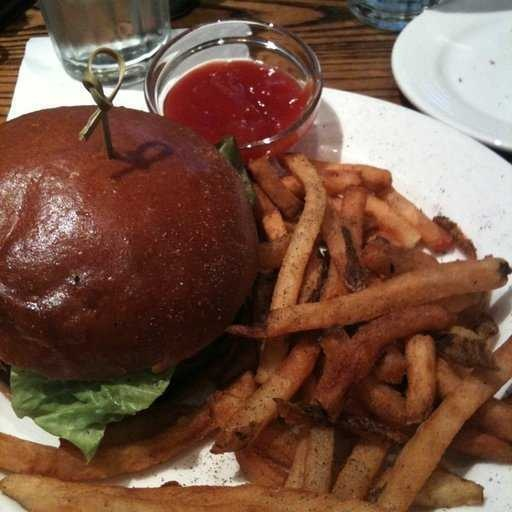hamburger: (1, 63, 231, 478)
